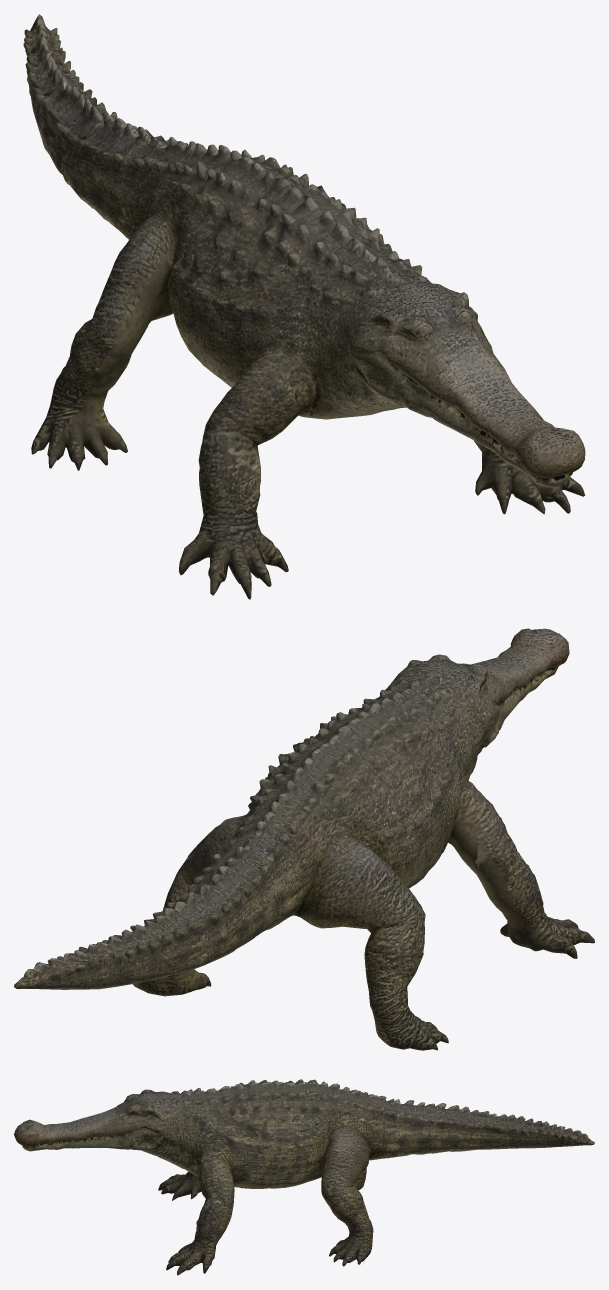
File: sarcosuchus.glb
The picture shows the model from 3 angles, top to bottom: view 1: azimuth 30°, elevation 25°; view 2: azimuth 150°, elevation 25°; view 3: azimuth 270°, elevation 25°; orthographic projection. The views are drawn at different scales.
Parts seen in each view (by area): view 1: dino; view 2: dino; view 3: dino.
Part boxes in pixels (<box>): dino: <box>23,14,585,599</box>; dino: <box>14,628,594,1050</box>; dino: <box>14,1079,594,1275</box>.
Bounding box in the file's own units: 3.48 × 2.5 × 9.
1 material, 1 textured.
